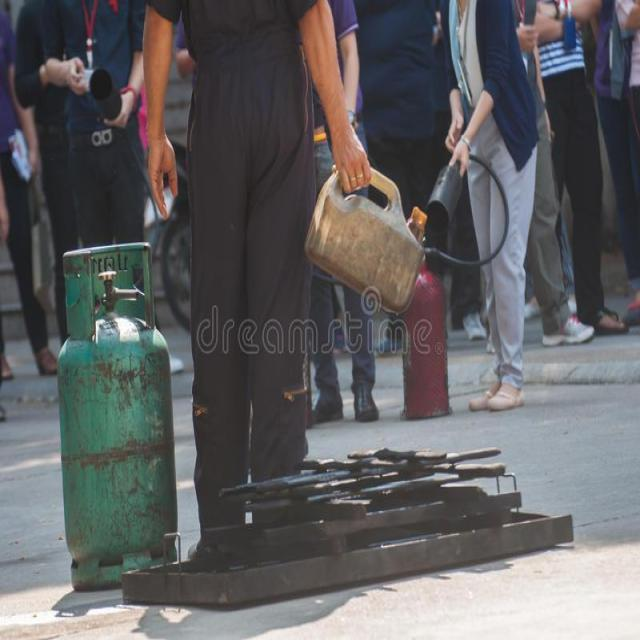fire_extinguisher: (387, 144, 510, 421)
